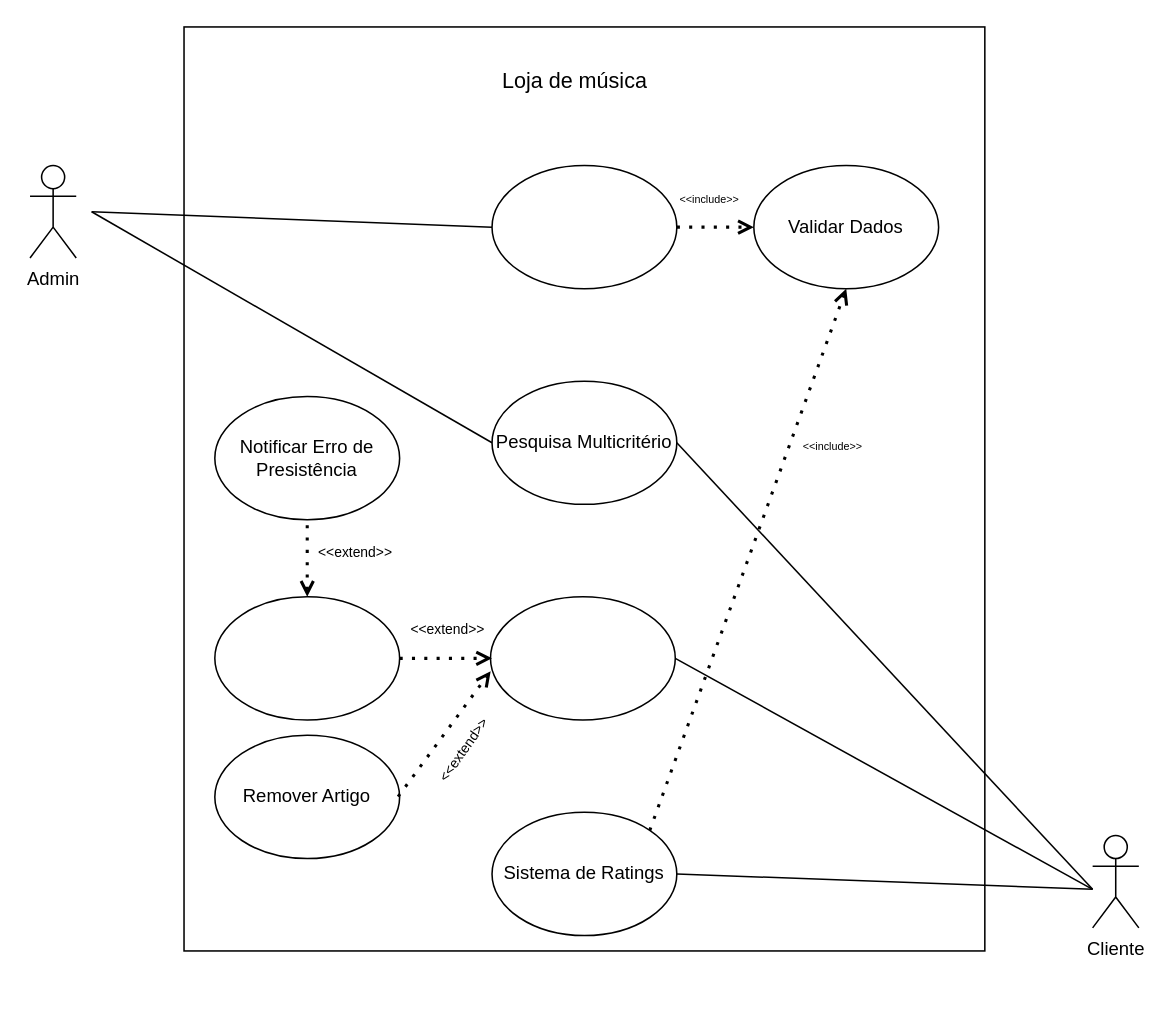
The diagram is 1170 pixels wide and 1010 high, and some of its shapes have lost their labels. Each missing label, with the centre of its shape:
"Finalizar uma Transação" goes at point (306, 657).
"Gestão de Catálgo" goes at point (583, 226).
"Gestão de Vendas e Carrinho" goes at point (582, 657).
